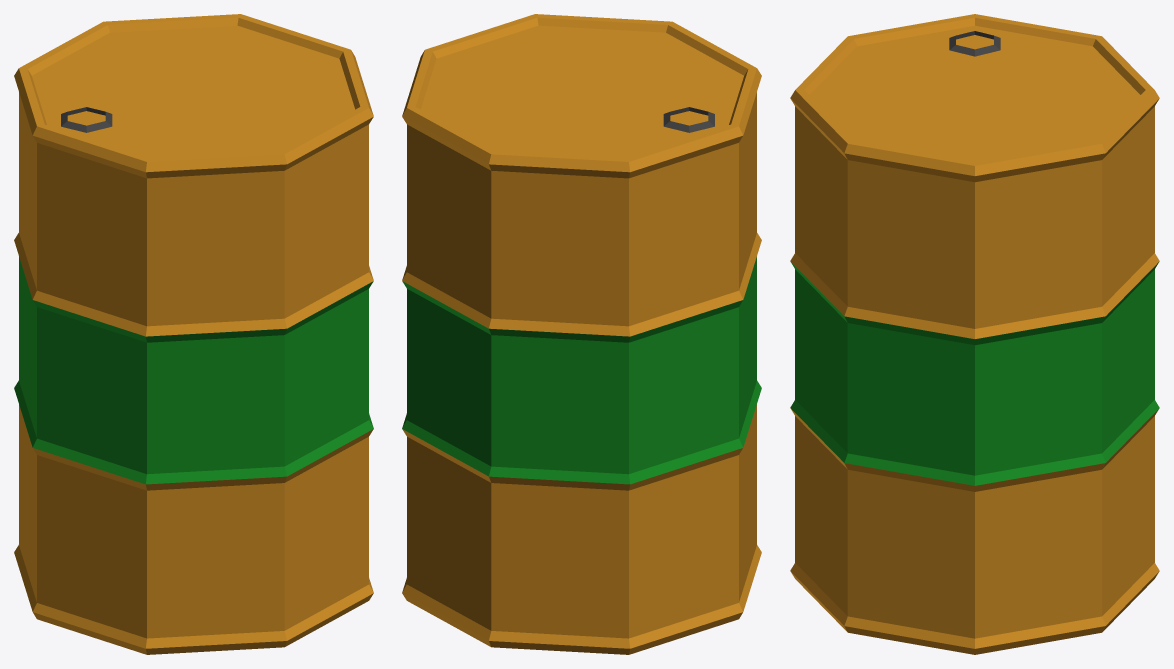
File: DrumOrangeGreen.fbx
3 renders of one model, left to right at view 1: azimuth 30°, elevation 25°; view 2: azimuth 150°, elevation 25°; view 3: azimuth 270°, elevation 25°, orthographic.
Parts seen in each view (by area): view 1: Cylinder; view 2: Cylinder; view 3: Cylinder.
Boxes of the visible parts, x1=… form: Cylinder: x1=14, y1=14, x2=373, y2=654; Cylinder: x1=402, y1=14, x2=761, y2=654; Cylinder: x1=790, y1=14, x2=1159, y2=654.
Bounding box in the file's own units: 0.822 × 1.2 × 0.822.
